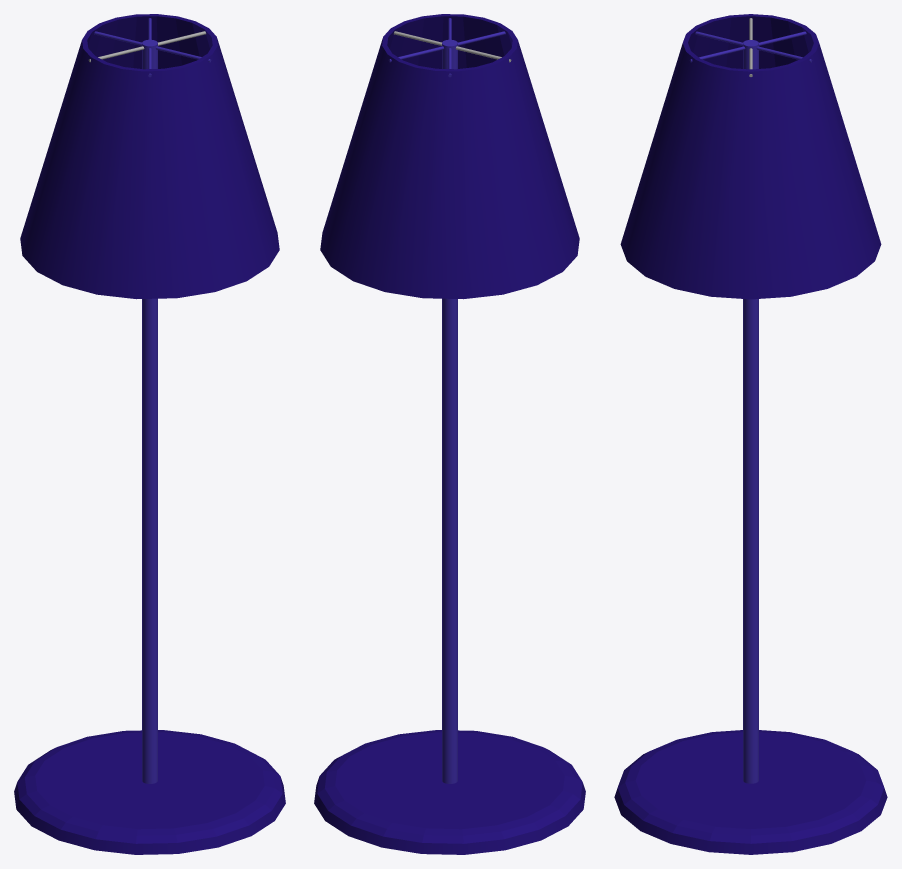
The model's file is Stehlampe.fbx.
The picture shows the model from 3 angles, left to right: view 1: azimuth 30°, elevation 25°; view 2: azimuth 150°, elevation 25°; view 3: azimuth 270°, elevation 25°; orthographic projection.
Visible parts, largest first — view 1: pCylinder3, pCylinder1, pCylinder2; view 2: pCylinder3, pCylinder1, pCylinder2; view 3: pCylinder3, pCylinder1, pCylinder2.
Boxes of the visible parts, left/top/right/bottom form: pCylinder3: left=20, top=14, right=279, bottom=299; pCylinder1: left=14, top=730, right=285, bottom=854; pCylinder2: left=142, top=39, right=157, bottom=783; pCylinder3: left=320, top=14, right=579, bottom=299; pCylinder1: left=314, top=730, right=585, bottom=854; pCylinder2: left=442, top=39, right=457, bottom=783; pCylinder3: left=620, top=14, right=881, bottom=299; pCylinder1: left=614, top=730, right=887, bottom=854; pCylinder2: left=743, top=40, right=758, bottom=783.
Size of the model in its own units: 7.84 by 23.9 by 7.84.
